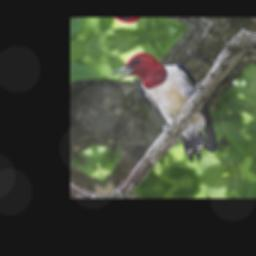Woodpecker: (103, 42, 226, 177)
